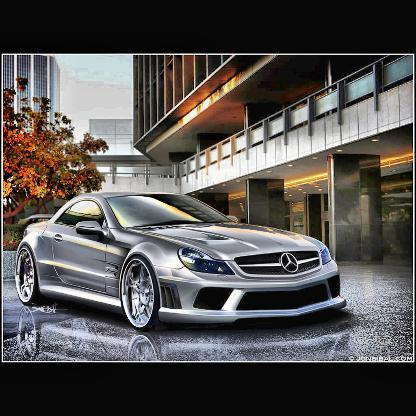Mercedes-Benz SL-Class Coupe 2009: (16, 187, 349, 333)
